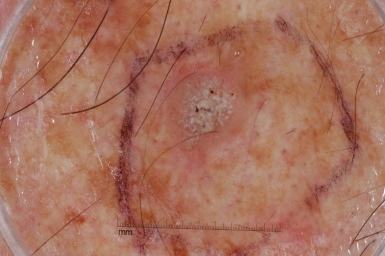seborrheic keratosis: (155, 61, 258, 151)
